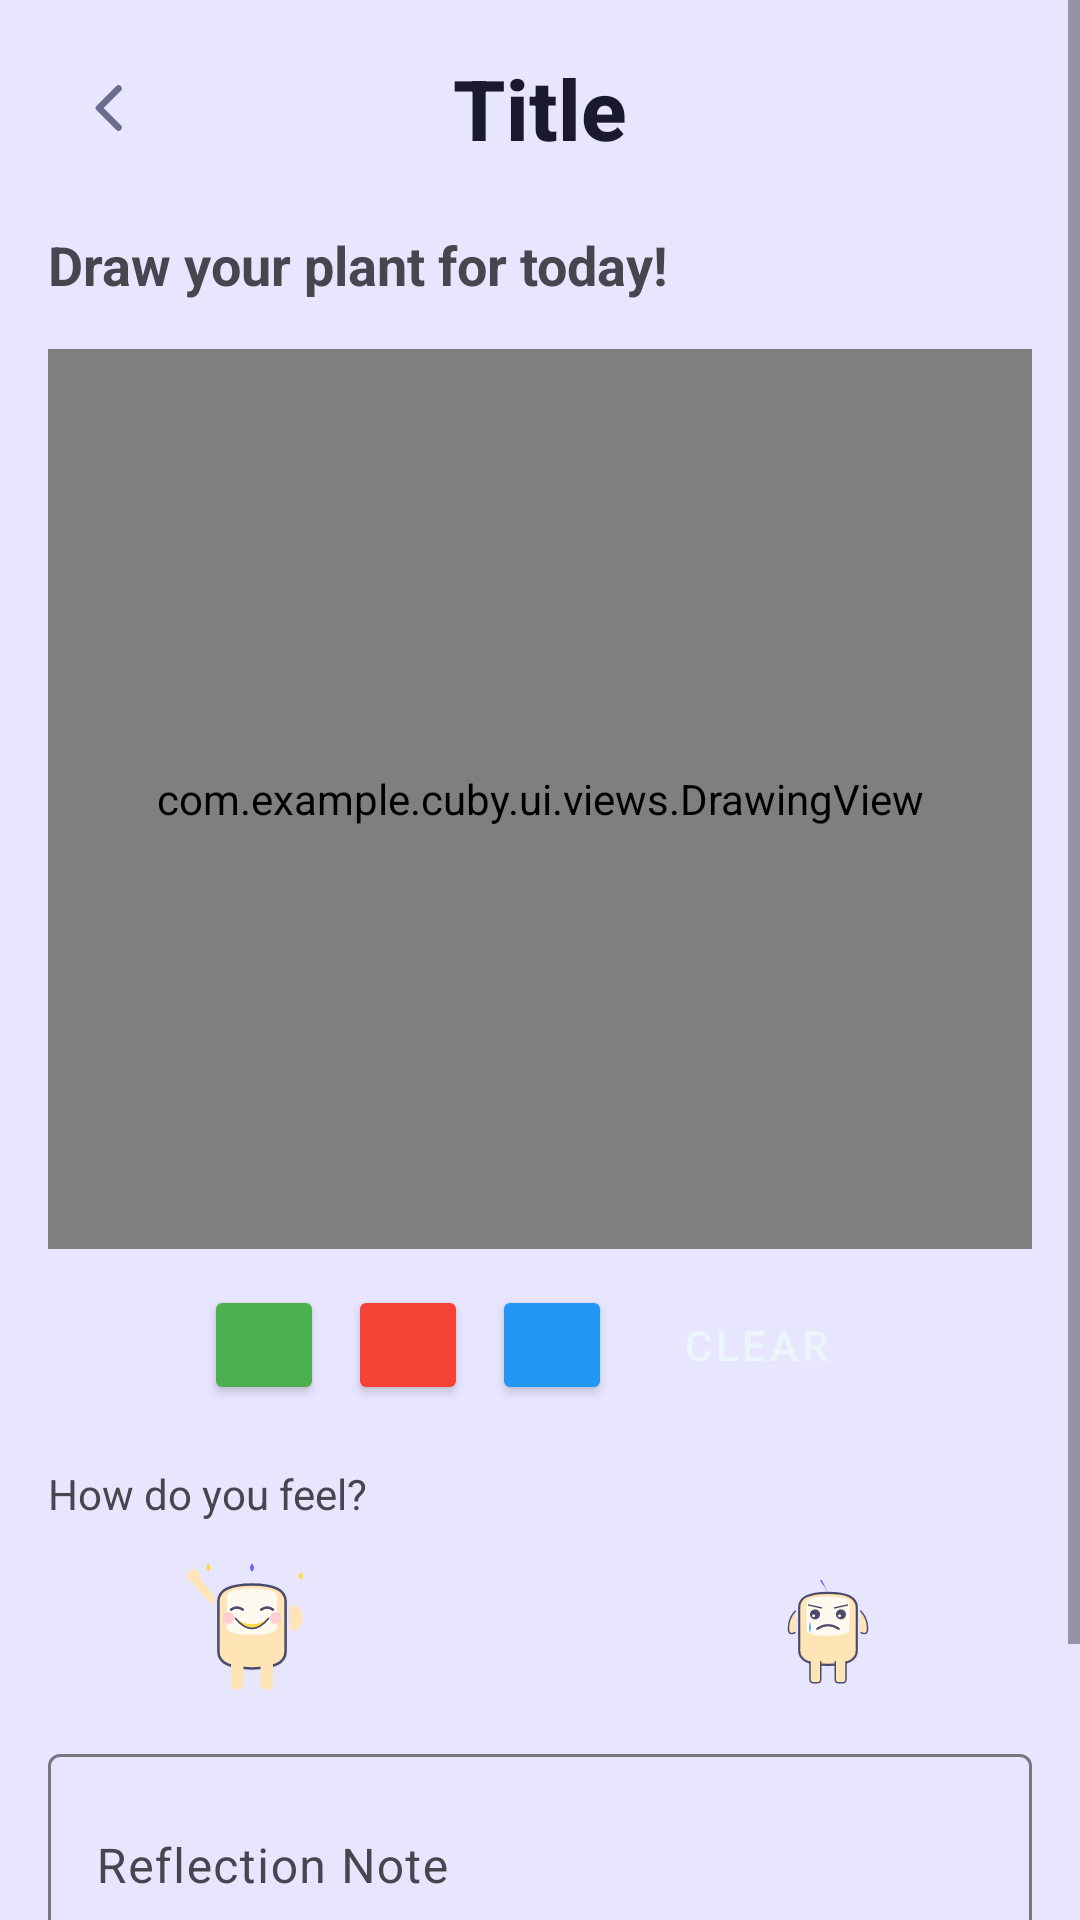

Named icons in this screenshot (1080 × 1920) and their bounding boxes, [left=x1, top=y1, right=x2, bottom=y2]:
Back: [left=95, top=85, right=122, bottom=131]
radio mood happy: [left=186, top=1563, right=303, bottom=1690]
radio mood sad: [left=787, top=1580, right=869, bottom=1684]
